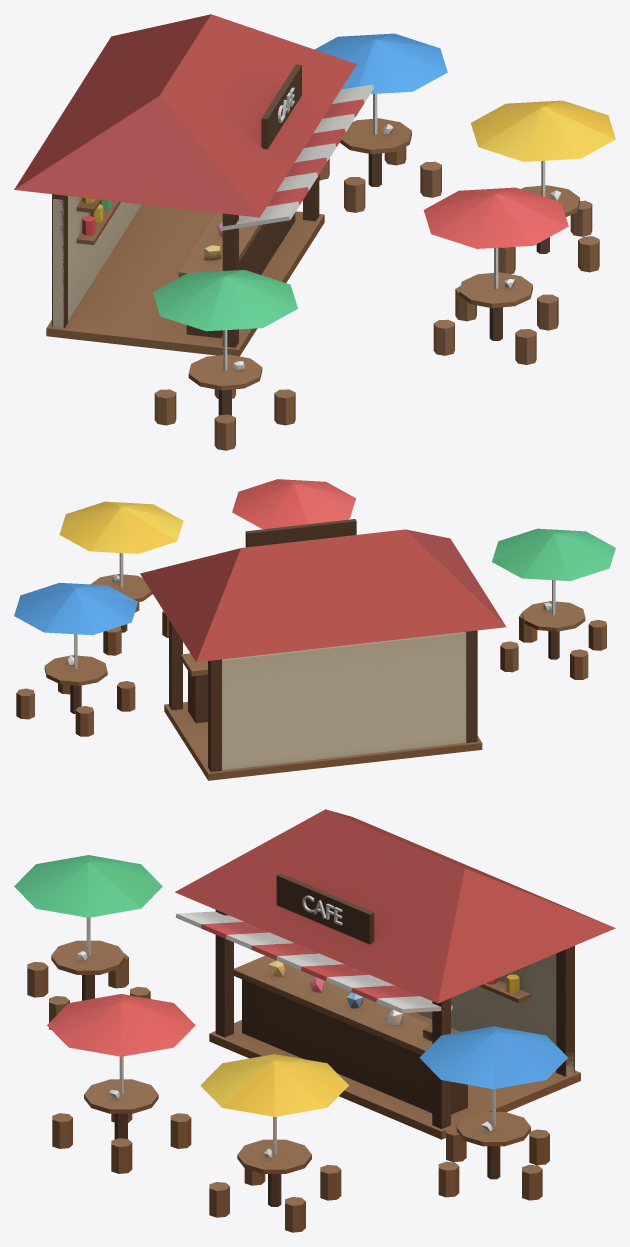
Rendered from hub_cafe.fbx.
The picture shows the model from 3 angles, top to bottom: view 1: azimuth 30°, elevation 25°; view 2: azimuth 150°, elevation 25°; view 3: azimuth 270°, elevation 25°; orthographic projection. The views are drawn at different scales.
Visible parts, largest first — view 1: hub_cafe_body; view 2: hub_cafe_body; view 3: hub_cafe_body.
Boxes of the visible parts, x1,y1,x2,y2 form: hub_cafe_body: (14,14,615,450); hub_cafe_body: (14,479,615,780); hub_cafe_body: (14,809,615,1232).
Bounding box in the file's own units: 2898 × 1120 × 2748.
1 material, 1 textured.
